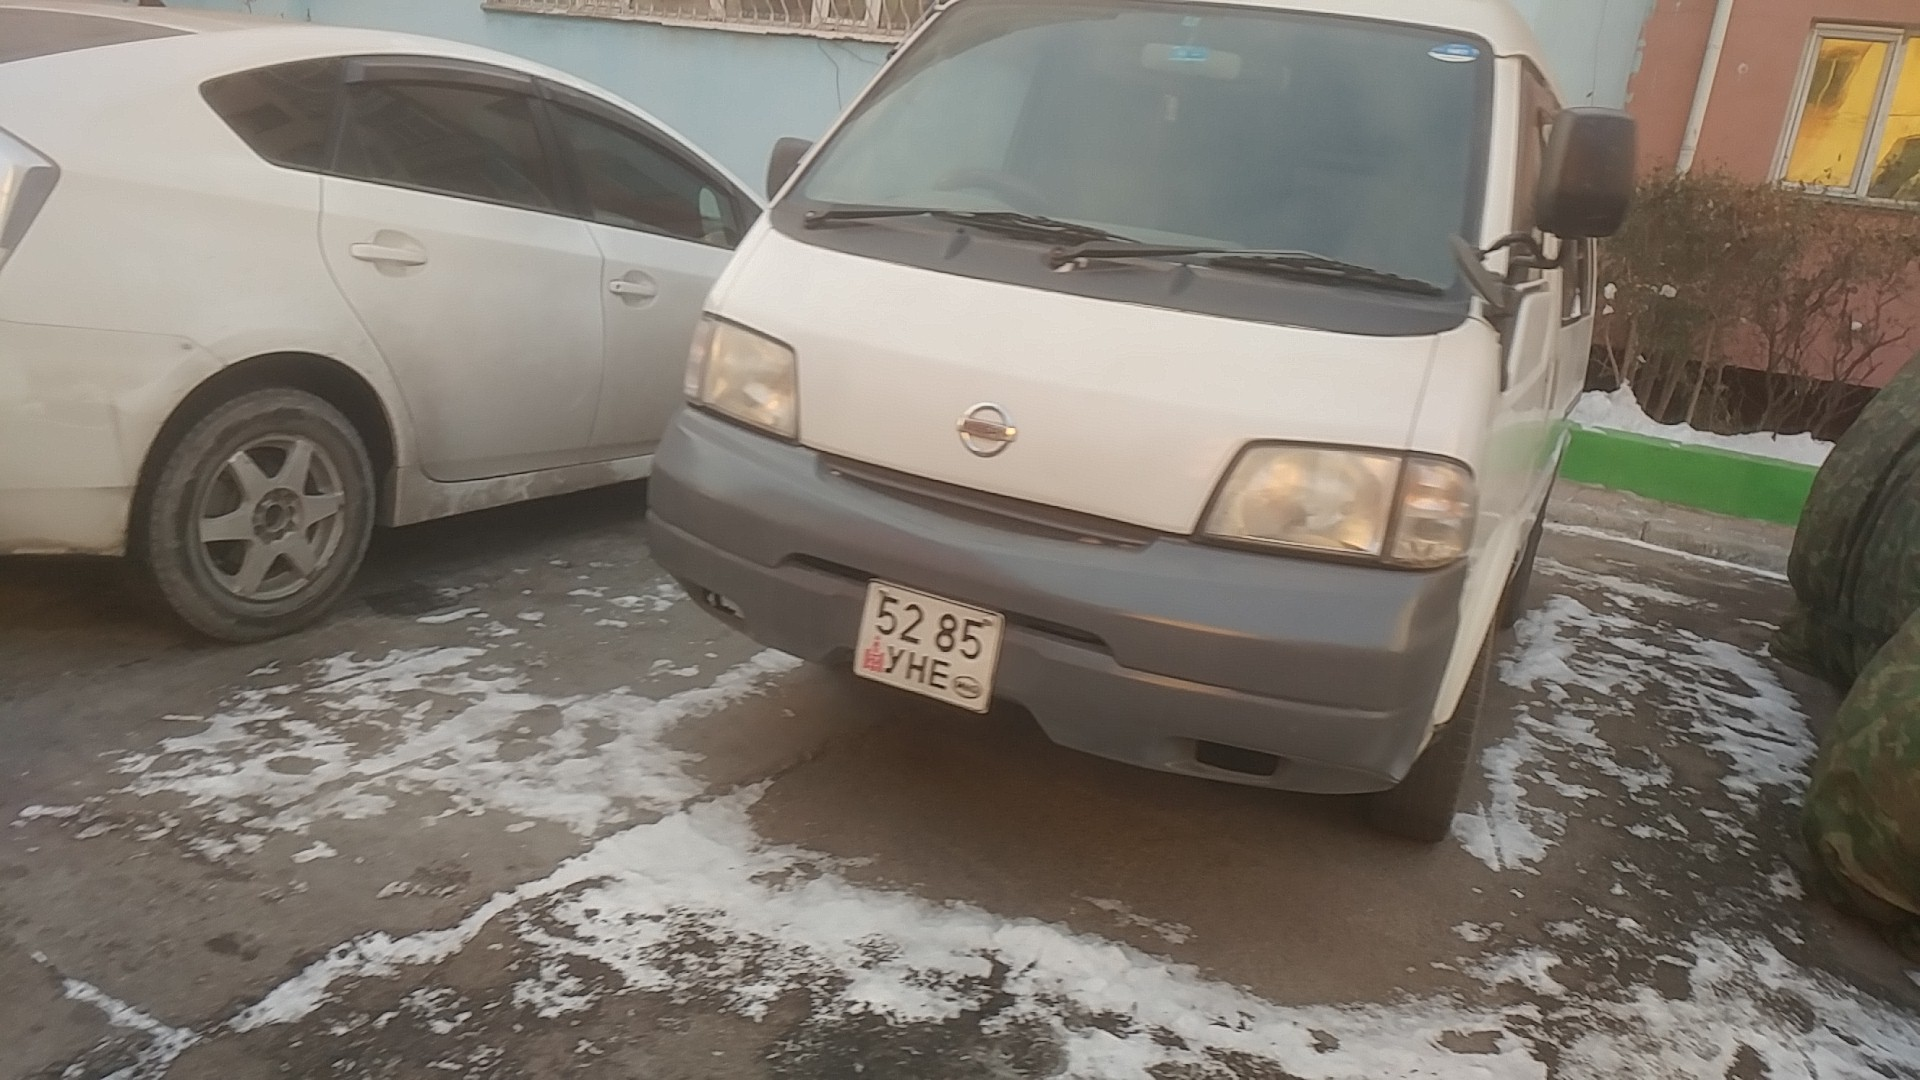2: (900, 602, 925, 645)
5: (960, 617, 986, 660), (874, 592, 900, 634)
8: (934, 611, 959, 653)
n: (903, 648, 929, 684)
plate: (849, 575, 1007, 718)
u: (883, 642, 904, 674)
ye: (927, 657, 952, 691)
